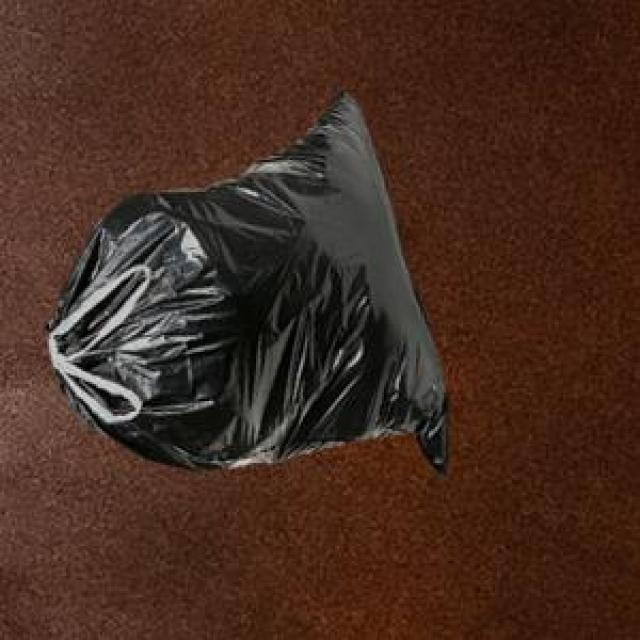waste: (48, 94, 450, 479)
